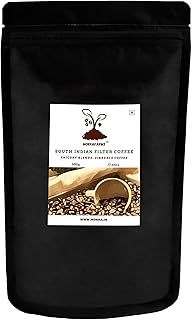Coffee: (1, 1, 183, 319)
